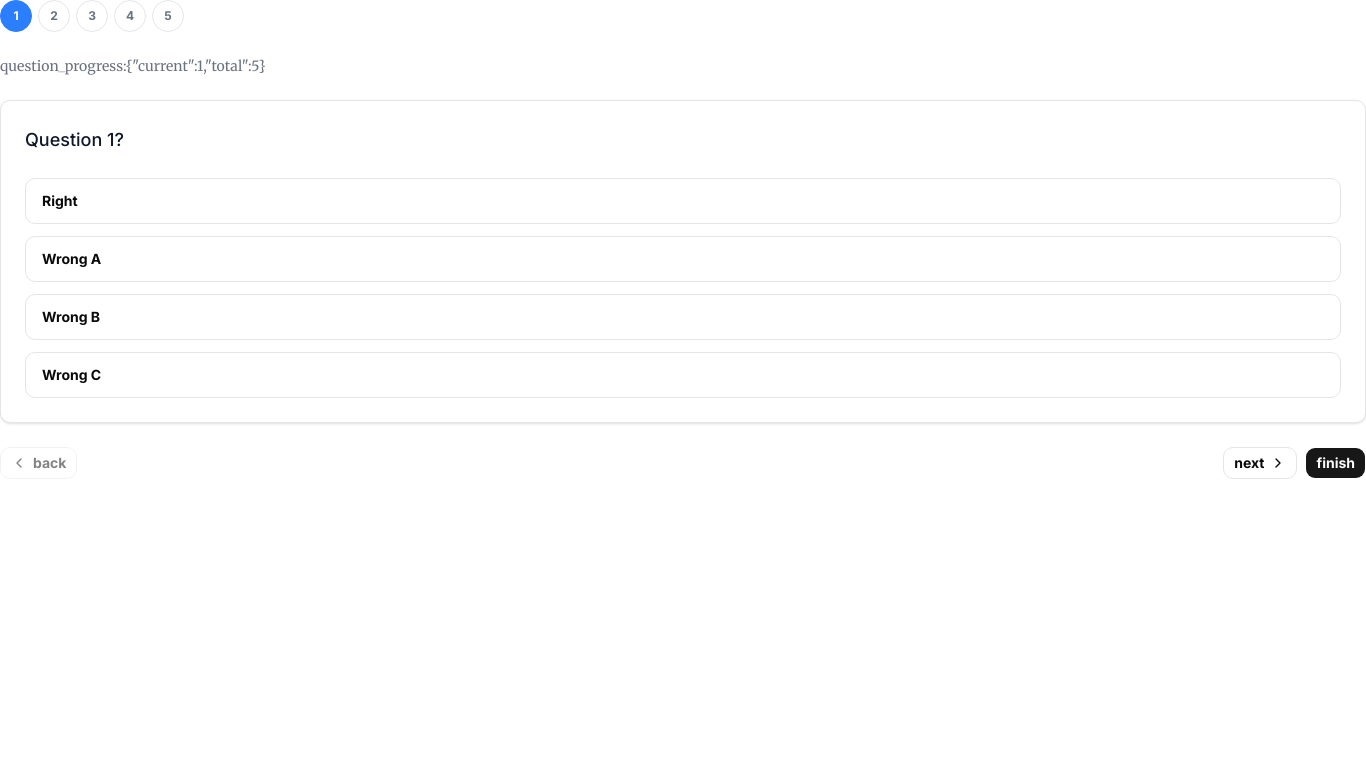
Test: QuizPlayer › reveal comes from the server response › shows the explanation (from the server) on the end-of-quiz summary, not mid-quiz
Click the button "Wrong A": click(72, 259) [25,236,1341,282]
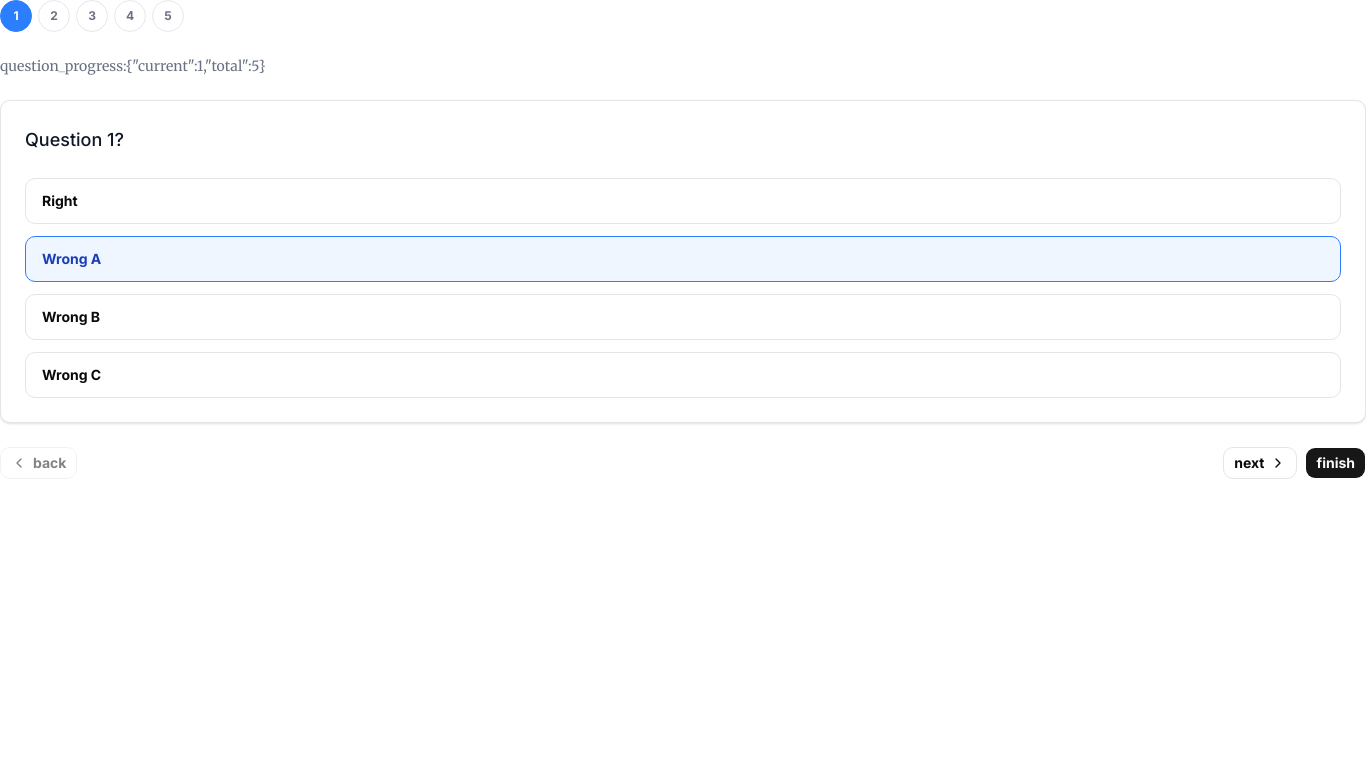
Check: the text "Because that is the right one." is not shown
# Finish (with the rest blank → confirm), then the summary reveals it.
Click the button "finish": click(1336, 463) [1305,447,1365,479]
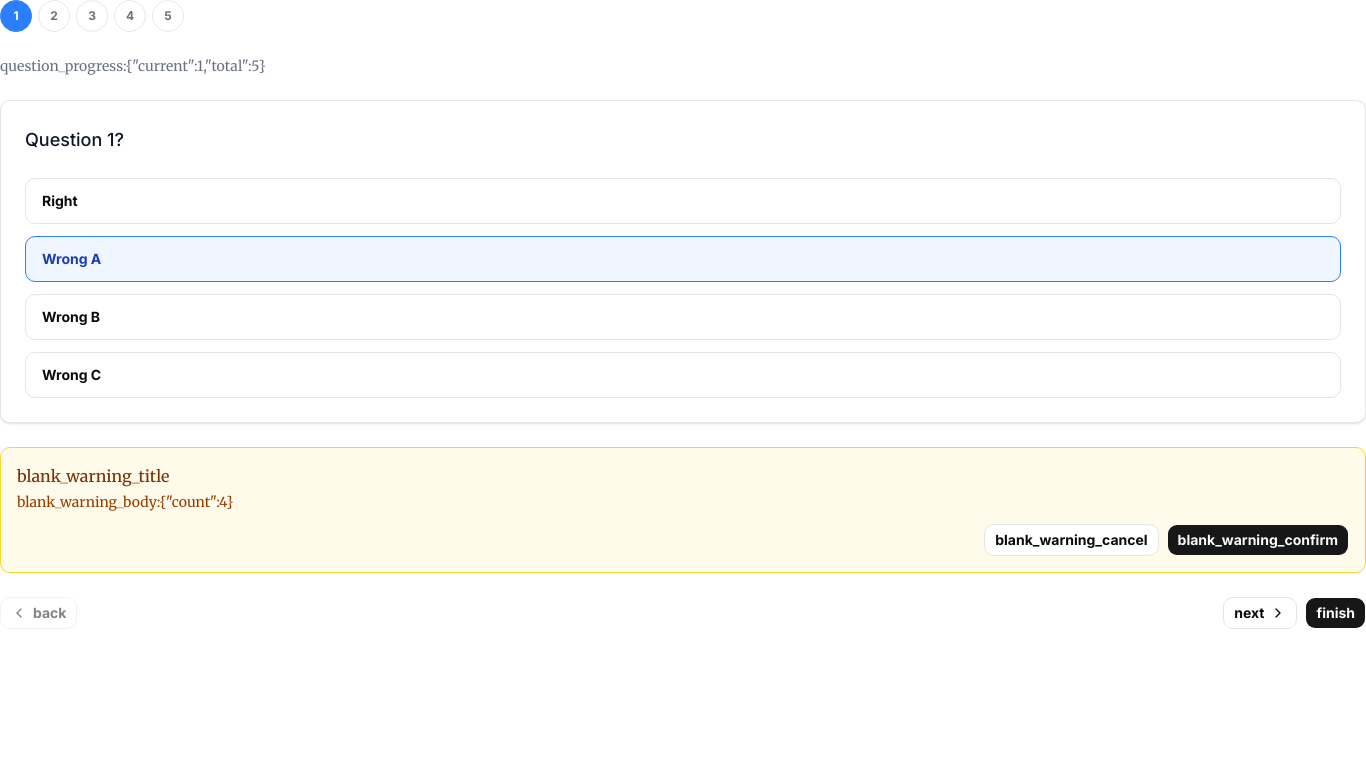
Click the button "blank_warning_confirm": click(1258, 540) [1167,524,1349,556]
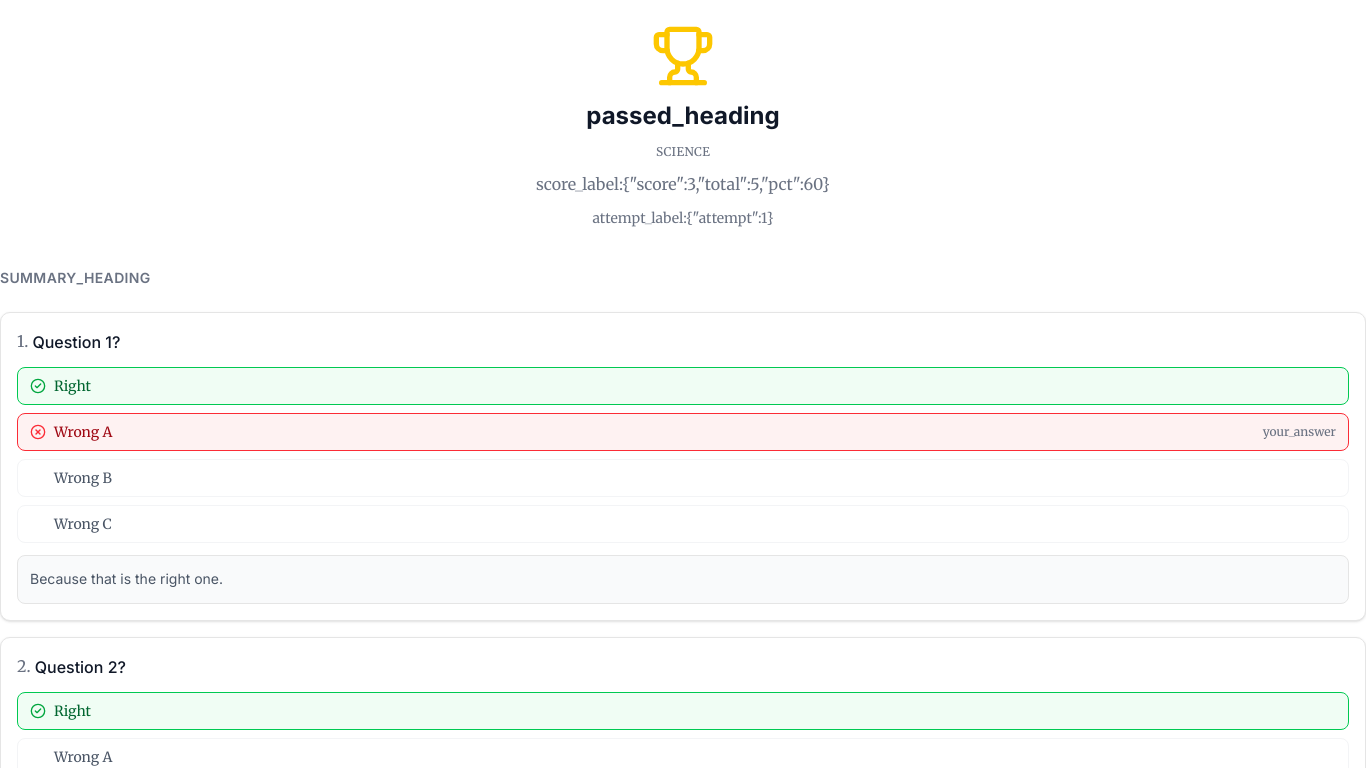
Check: the text "Because that is the right one." is shown, box [30,570,223,587]
